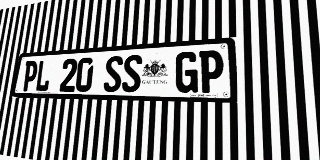0: (75, 57, 94, 92)
2: (59, 58, 78, 92)
G: (175, 51, 198, 93)
L: (35, 60, 52, 92)
P: (199, 50, 224, 93), (21, 60, 39, 91)
S: (121, 54, 143, 92), (103, 55, 123, 92)
